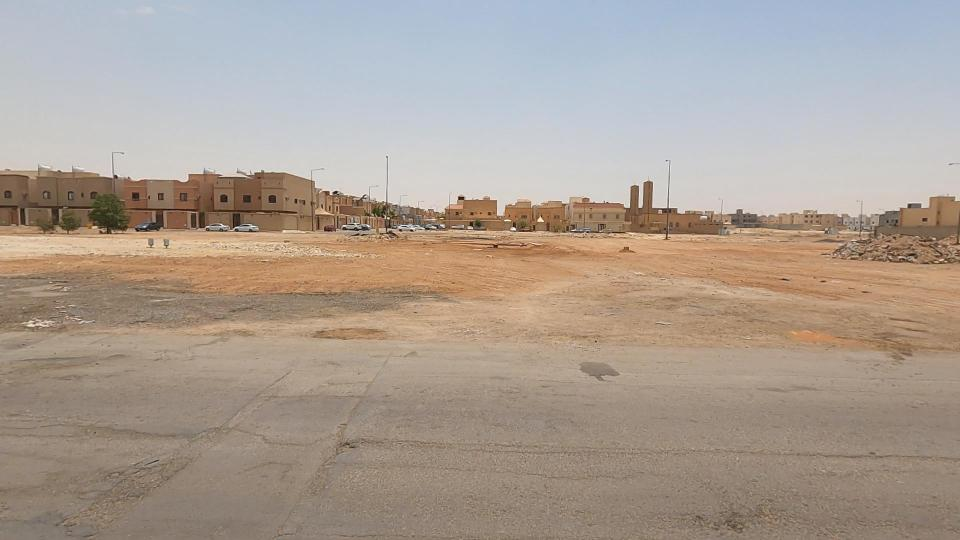POTHOLES: (0, 289, 82, 356), (814, 221, 881, 288)
